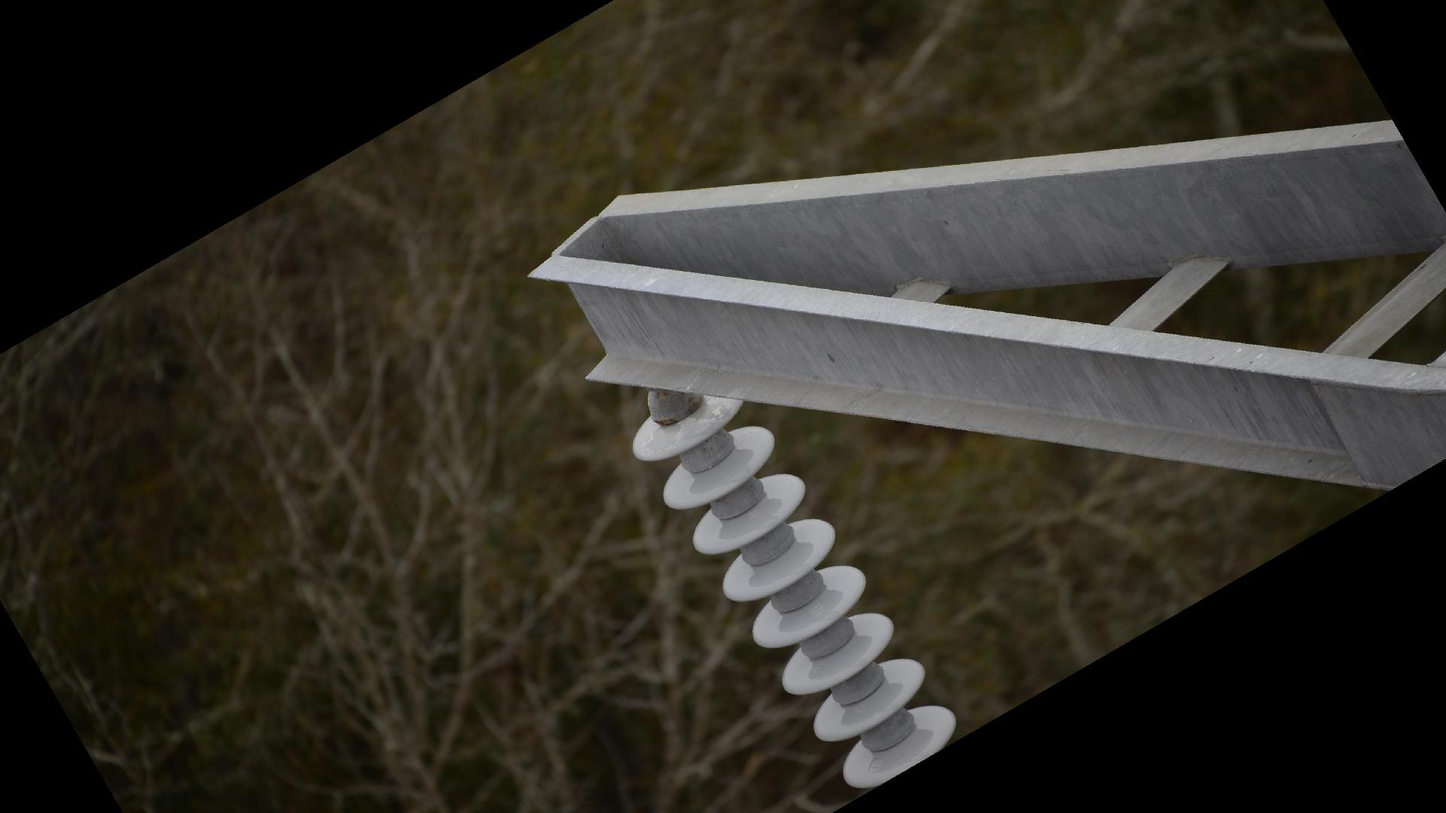insulator: (627, 388, 962, 796)
insulator_flashover: (639, 419, 684, 460), (685, 397, 734, 425)
